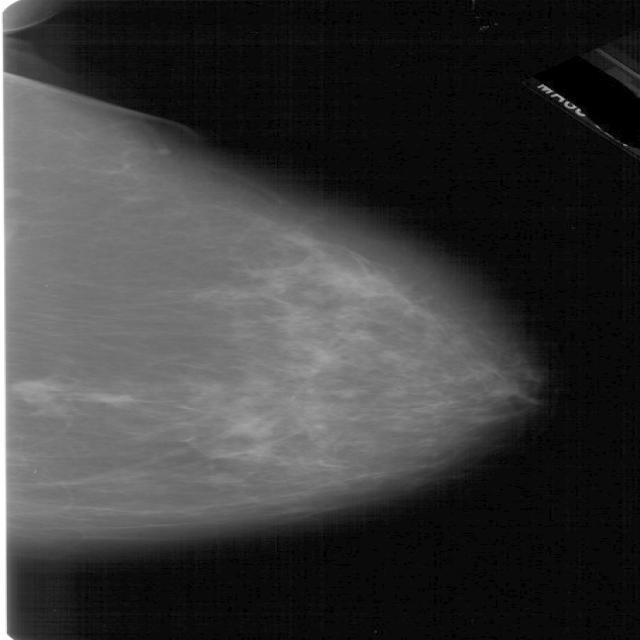tumour: (11, 376, 61, 402)
